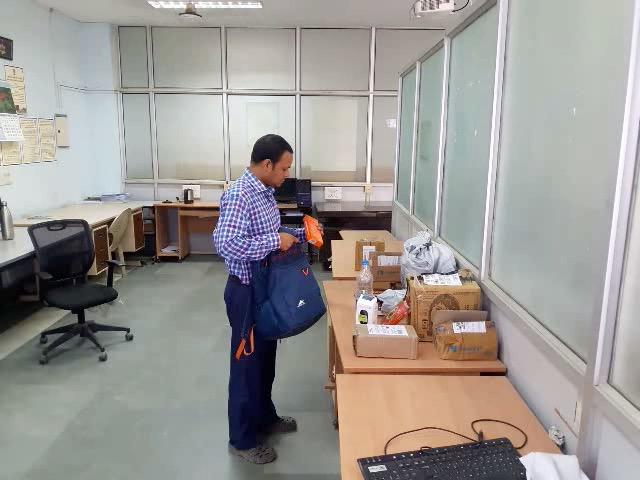shoplifting: (186, 192, 385, 357)
